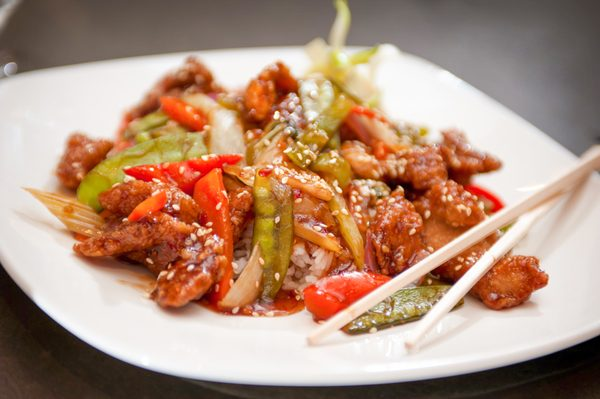salad: (302, 145, 600, 342)
